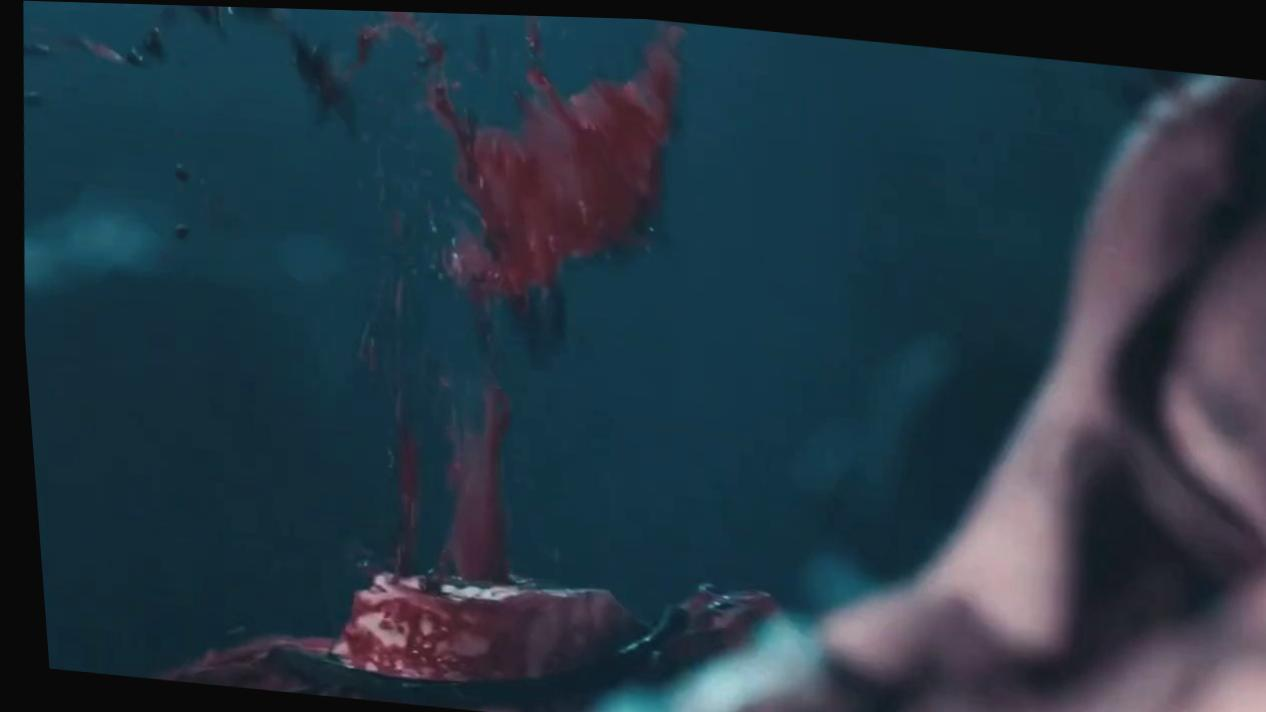Fire: (23, 4, 769, 712), (79, 38, 122, 59), (23, 39, 48, 53), (171, 161, 187, 180), (22, 89, 39, 105), (170, 222, 184, 237)
